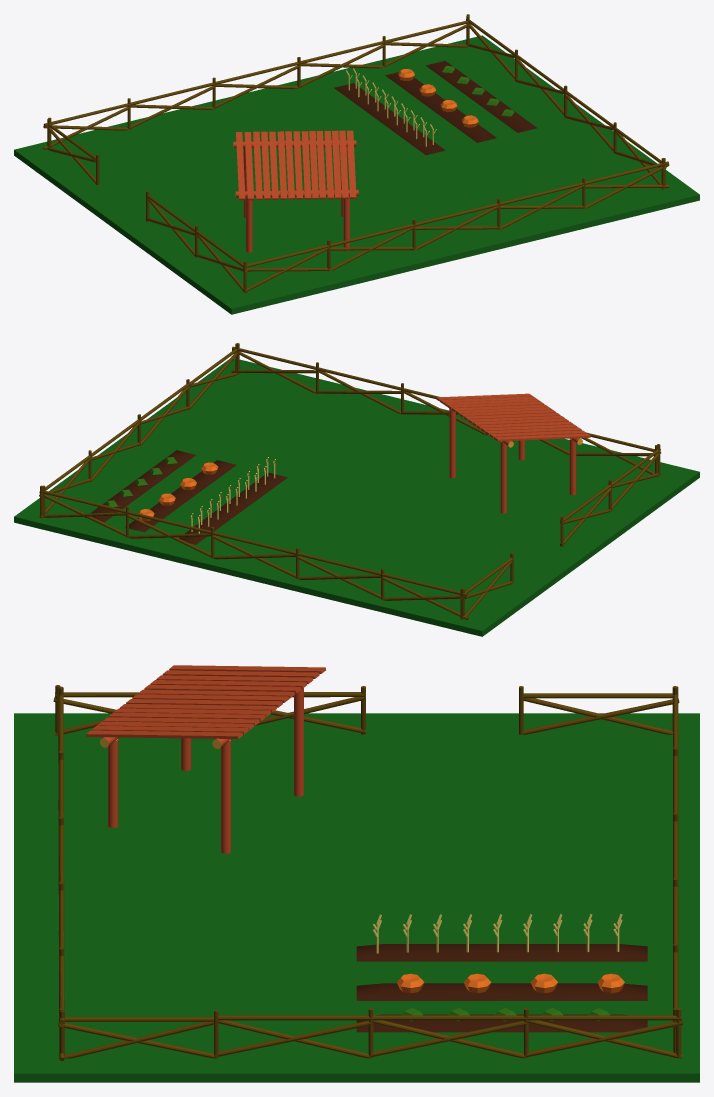
The model's file is FarmAge1.fbx.
The picture shows the model from 3 angles, top to bottom: view 1: azimuth 30°, elevation 25°; view 2: azimuth 150°, elevation 25°; view 3: azimuth 270°, elevation 25°; orthographic projection. The views are drawn at different scales.
Parts seen in each view (by area): view 1: Cube.1355, Plane.268, Plane.271, Plane.270, Cube.1348, Cube.1345, Cube.1353, Cube.1344, Cube.1341, Cube.1351, Cube.1349, Cube.1342 (+7 smaller); view 2: Cube.1355, Plane.268, Plane.271, Plane.270, Cylinder.514, Cylinder.515, Cube.1340; view 3: Cube.1355, Plane.268, Plane.270, Plane.271, Cube.1354, Cylinder.515, Cube.1339, Cylinder.514, Cylinder.513, Cylinder.446, Cylinder.443, Cube.1340 (+27 smaller).
Boxes of the visible parts, box(x1,y1,x2,y2) form: Cube.1355: box(14, 35, 699, 314); Plane.268: box(334, 83, 445, 155); Plane.271: box(425, 60, 537, 132); Plane.270: box(385, 72, 496, 142); Cube.1348: box(301, 131, 311, 199); Cube.1345: box(277, 131, 287, 199); Cube.1353: box(339, 130, 348, 198); Cube.1344: box(269, 131, 278, 199); Cube.1341: box(244, 132, 254, 200); Cube.1351: box(324, 131, 333, 199); Cube.1349: box(309, 131, 318, 199); Cube.1342: box(253, 131, 262, 200); Cube.1355: box(14, 358, 699, 636); Plane.268: box(179, 472, 287, 544); Plane.271: box(85, 450, 195, 522); Plane.270: box(125, 460, 236, 532); Cylinder.514: box(500, 441, 506, 513); Cylinder.515: box(449, 408, 455, 478); Cube.1340: box(494, 433, 590, 441); Cube.1355: box(14, 713, 699, 1082); Plane.268: box(356, 944, 647, 961); Plane.270: box(356, 983, 647, 1000); Plane.271: box(356, 1014, 647, 1032); Cube.1354: box(86, 730, 242, 739); Cylinder.515: box(221, 739, 230, 853); Cube.1339: box(373, 919, 622, 953); Cylinder.514: box(294, 688, 303, 796); Cylinder.513: box(108, 739, 118, 827); Cylinder.446: box(371, 1015, 525, 1020); Cylinder.443: box(527, 1015, 681, 1020); Cube.1340: box(169, 665, 325, 673).
Size of the model in its own units: 838 by 146 by 674.
